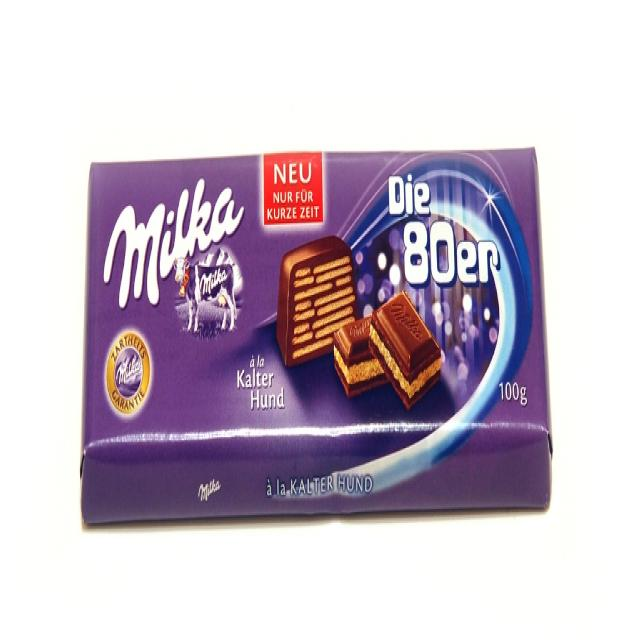milka: (102, 171, 251, 346)
